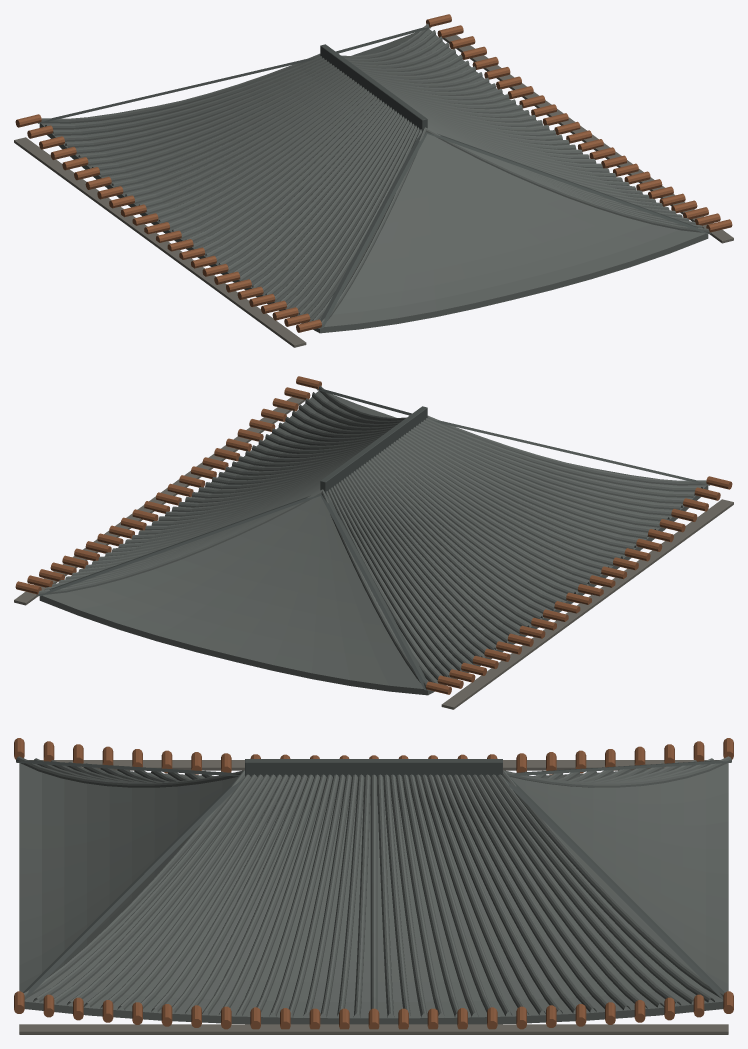
The model's file is roof-dadian.glb.
3 renders of one model, top to bottom at view 1: azimuth 30°, elevation 25°; view 2: azimuth 150°, elevation 25°; view 3: azimuth 270°, elevation 25°, orthographic. The views are drawn at different scales.
Parts seen in each view (by area): view 1: roof_dadian; view 2: roof_dadian; view 3: roof_dadian.
Boxes of the visible parts, <box> form: roof_dadian: <box>14,14,733,347</box>; roof_dadian: <box>14,376,733,709</box>; roof_dadian: <box>14,738,733,1034</box>.
Size of the model in its own units: 10.87 by 2.71 by 12.18.
